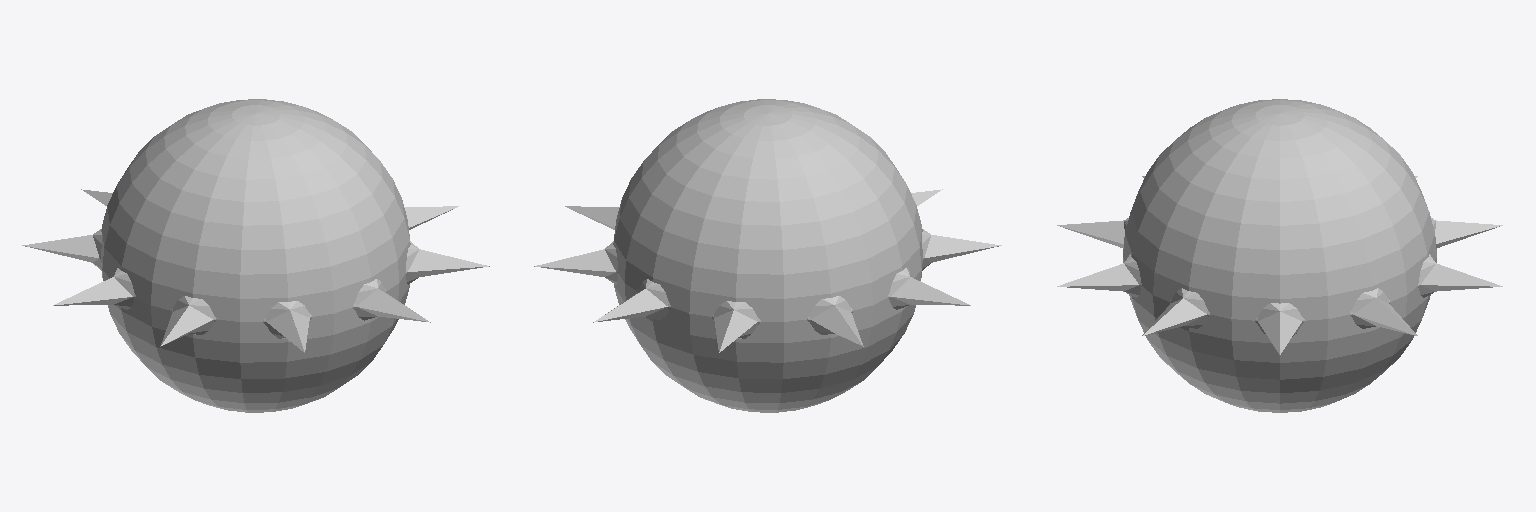
The model's file is tEnemy.obj.
3 views of the same model, side by side, from view 1: azimuth 30°, elevation 25°; view 2: azimuth 150°, elevation 25°; view 3: azimuth 270°, elevation 25° (orthographic).
Parts seen in each view (by area): view 1: pSphere1, pPipe1; view 2: pSphere1, pPipe1; view 3: pSphere1, pPipe1.
Boxes of the visible parts, x1,y1,x2,y2 form: pSphere1: [101, 99, 410, 412]; pPipe1: [22, 189, 489, 352]; pSphere1: [613, 99, 922, 412]; pPipe1: [534, 189, 1001, 352]; pSphere1: [1123, 99, 1436, 412]; pPipe1: [1057, 176, 1502, 354].
Size of the model in its own units: 3 by 2 by 2.85.